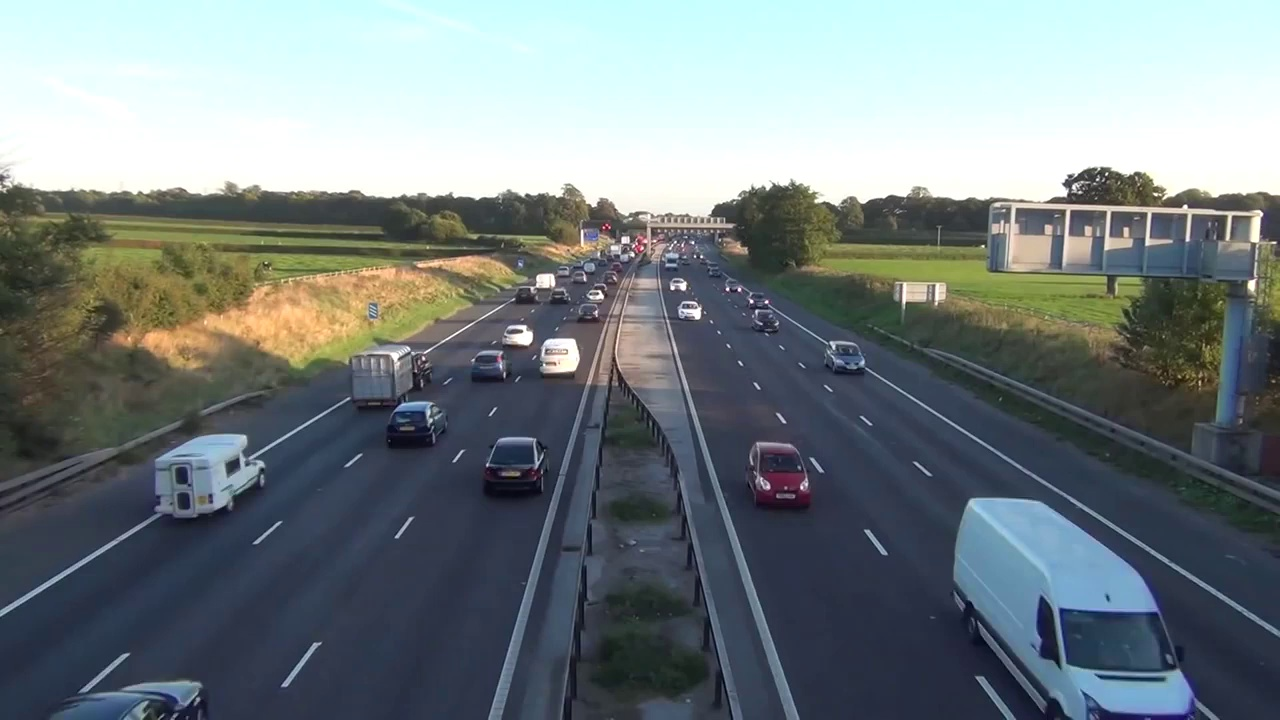bus: (949, 495, 1197, 720), (153, 434, 266, 521), (748, 442, 813, 508), (483, 436, 549, 492), (386, 401, 449, 447), (539, 337, 580, 377), (823, 341, 867, 376), (470, 350, 513, 380), (411, 353, 434, 388), (751, 309, 781, 333), (503, 324, 533, 347), (676, 300, 702, 322), (745, 292, 770, 311), (577, 304, 600, 321), (724, 278, 743, 294), (669, 278, 688, 293)
